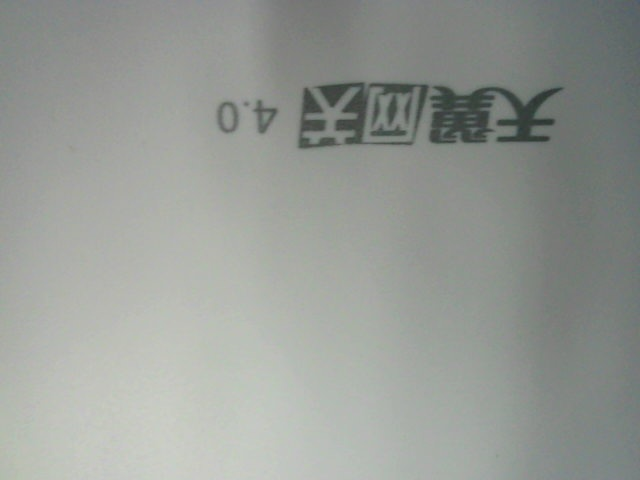BM_TianYiWangGuan: (208, 67, 567, 149)
